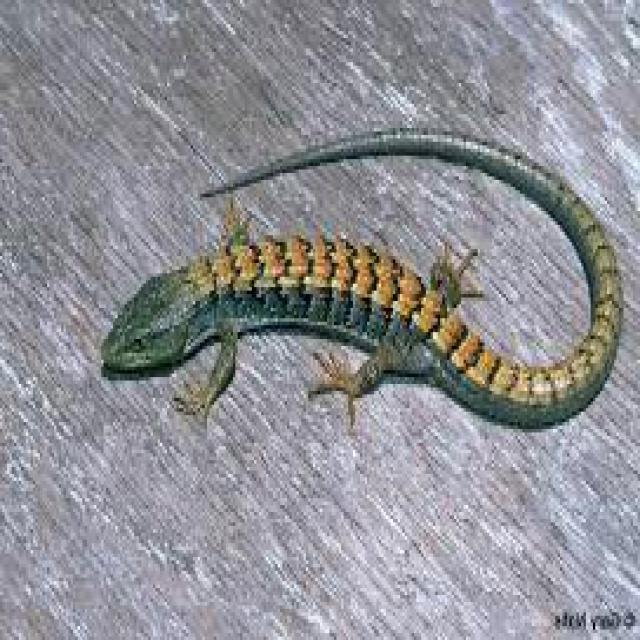lizard: (104, 128, 624, 426)
